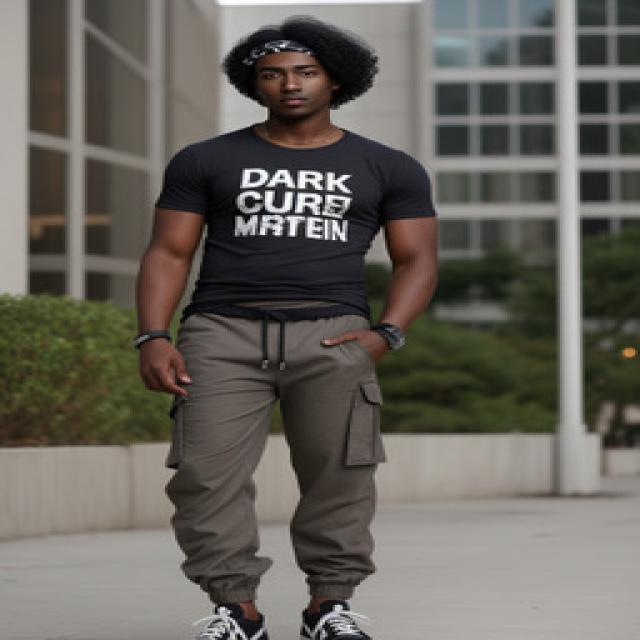Ai human 2: (121, 15, 452, 638)
